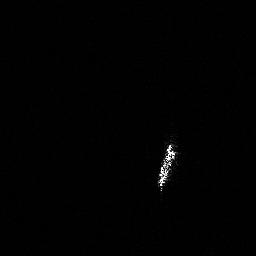ship: (155, 141, 179, 193)
